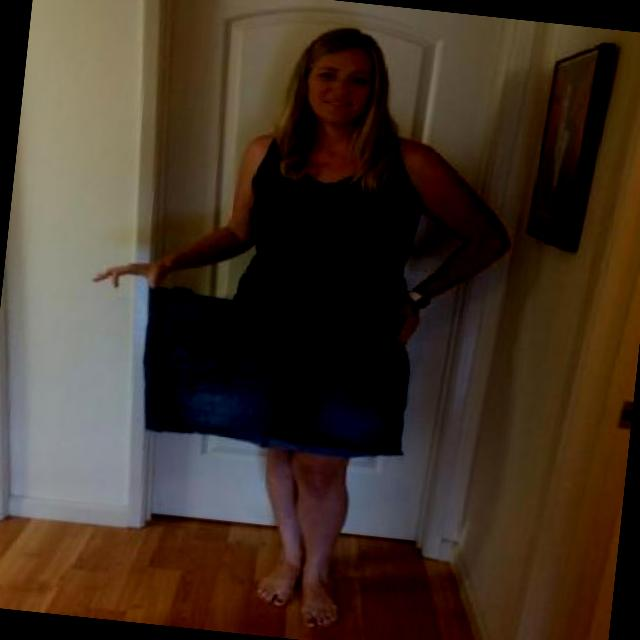Person: (155, 7, 461, 640)
